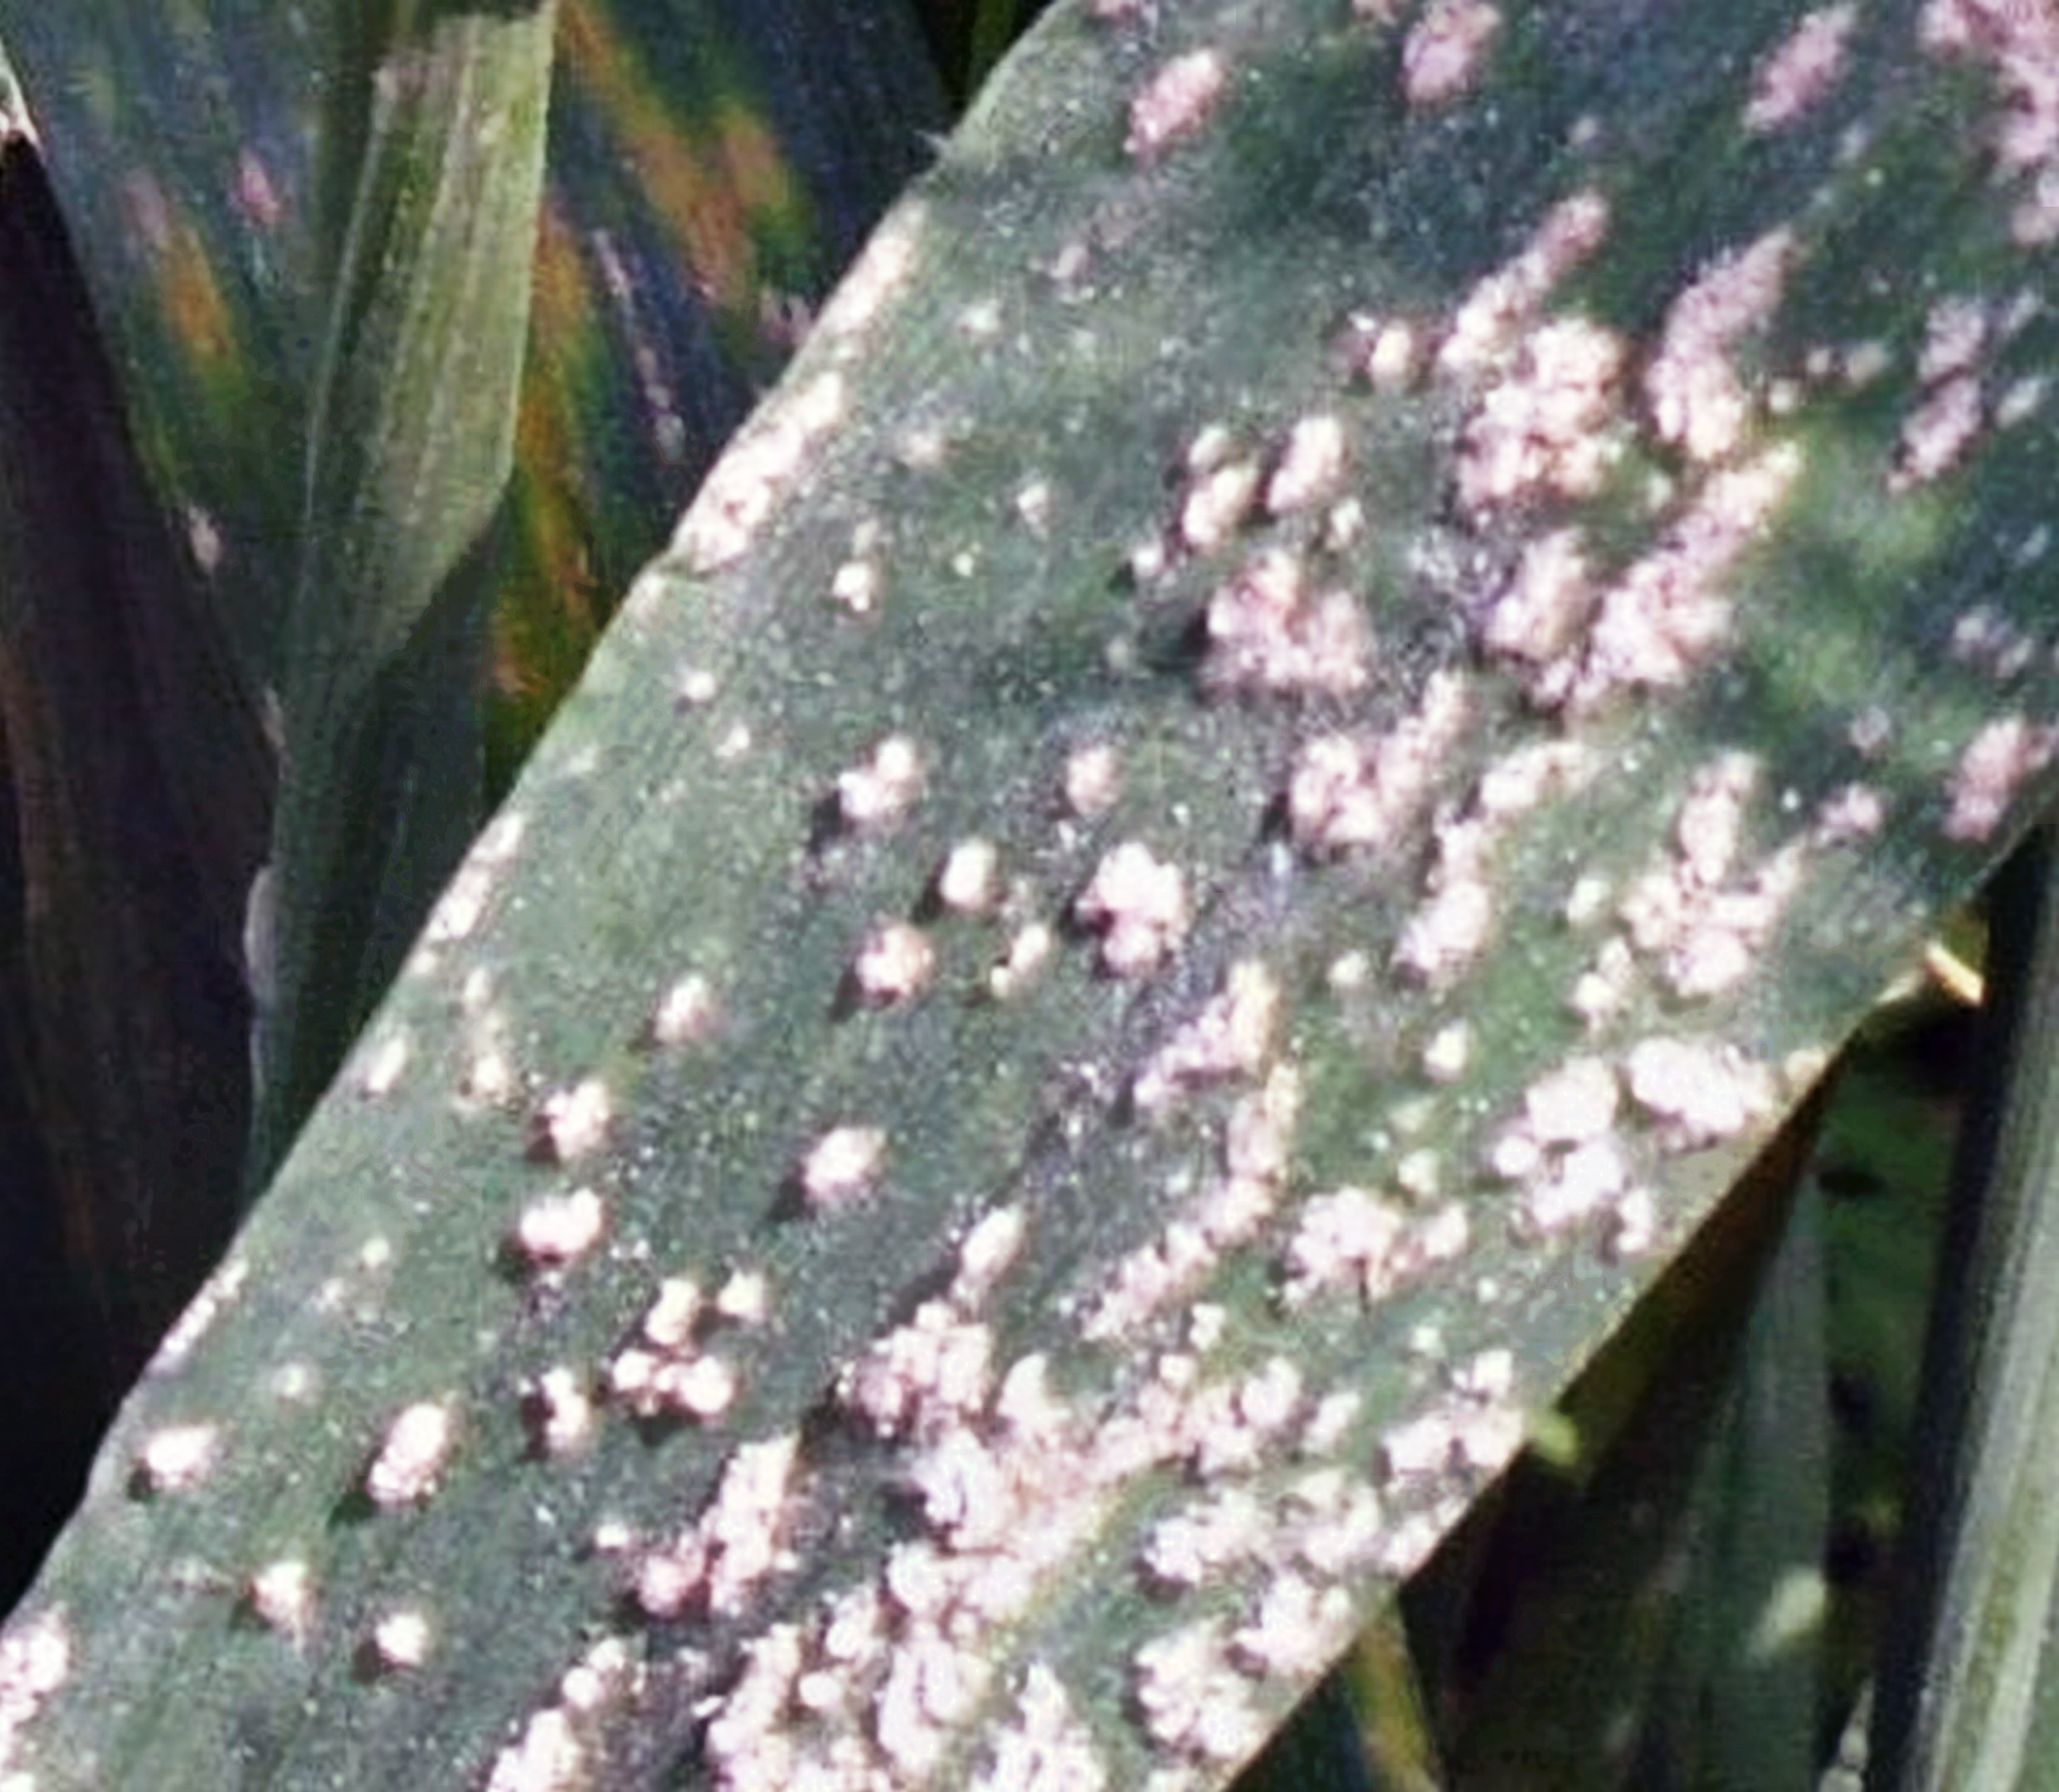Powdery Mildew: (488, 217, 1875, 1734)
